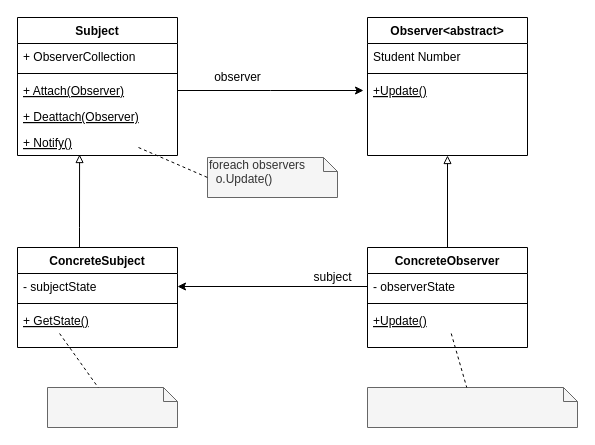
The diagram is 595 pixels wide and 445 high, and some of its shapes have lost their labels. The box of each missing label's shape, as (x1, y1, x2, y2) in pixels:
observerState = subject.GetState(): (366, 386, 578, 428)
return SubjectState(): (46, 386, 178, 428)
